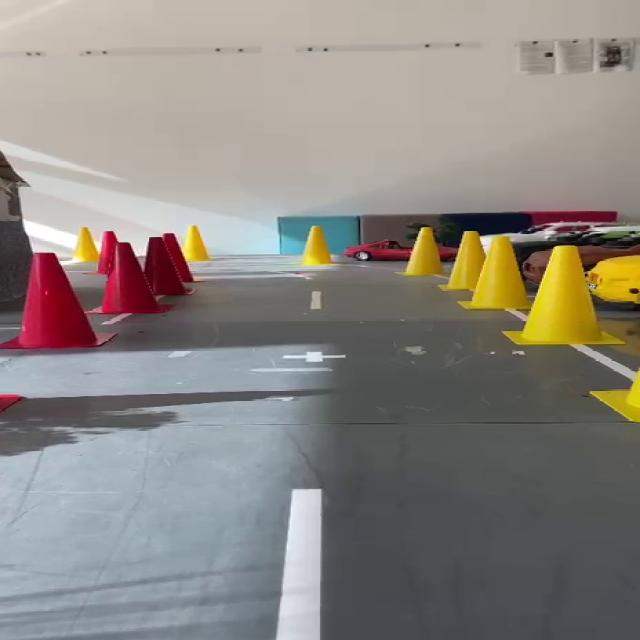Cone-red: (0, 242, 168, 348), (143, 237, 190, 295), (95, 231, 117, 276), (0, 395, 19, 412)
Cones-yellow: (461, 237, 623, 344), (590, 368, 639, 422), (441, 231, 484, 289), (404, 227, 443, 275), (74, 228, 108, 273), (178, 225, 211, 263), (302, 226, 331, 265)
